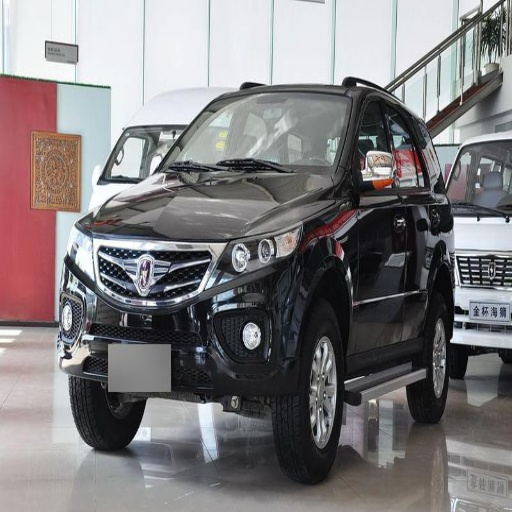front_bumper: (66, 236, 297, 401)
front_glass: (99, 91, 352, 183)
front_left_door: (353, 93, 409, 353)
front_right_light: (66, 221, 93, 278)
